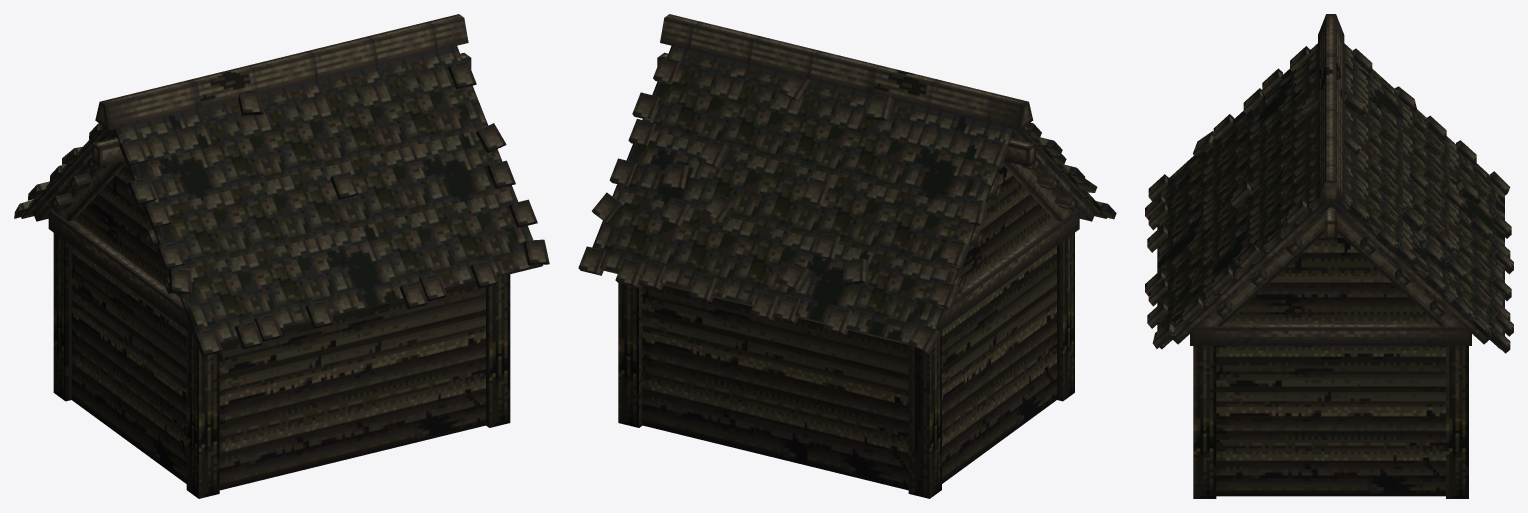
File: EnvBdgMD_WoodHouse_A_Outdoor_House_B_Broken.FBX
The picture shows the model from 3 angles, left to right: view 1: azimuth 30°, elevation 25°; view 2: azimuth 150°, elevation 25°; view 3: azimuth 270°, elevation 25°; orthographic projection. The views are drawn at different scales.
Visible parts, largest first — view 1: EnvBdgMD_WoodHouse_A_Outdoor_House_B_Broken; view 2: EnvBdgMD_WoodHouse_A_Outdoor_House_B_Broken; view 3: EnvBdgMD_WoodHouse_A_Outdoor_House_B_Broken.
Boxes of the visible parts, x1,y1,x2,y2 form: EnvBdgMD_WoodHouse_A_Outdoor_House_B_Broken: (14,14,549,498); EnvBdgMD_WoodHouse_A_Outdoor_House_B_Broken: (578,14,1116,498); EnvBdgMD_WoodHouse_A_Outdoor_House_B_Broken: (1145,14,1513,498).
Bounding box in the file's own units: 620 × 555 × 562.
1 material, 1 textured.
